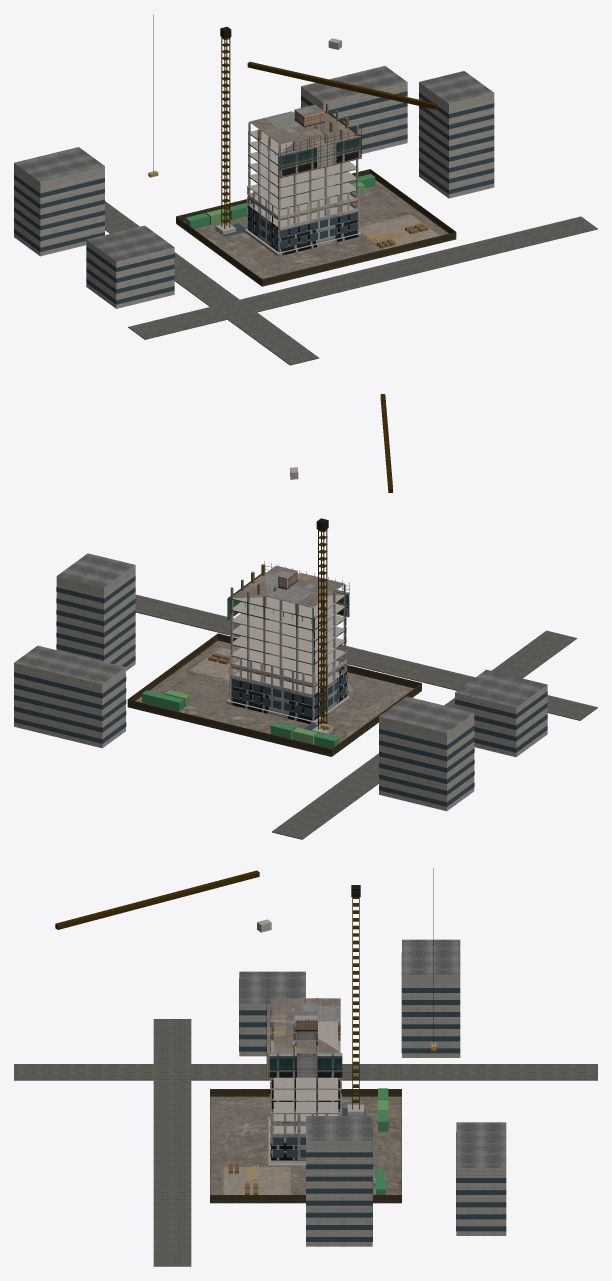
The model's file is tower-m6.glb.
The picture shows the model from 3 angles, top to bottom: view 1: azimuth 30°, elevation 25°; view 2: azimuth 150°, elevation 25°; view 3: azimuth 270°, elevation 25°; orthographic projection. The views are drawn at different scales.
Parts seen in each view (by area): view 1: Ground_NeighbourPBR, Ground_AsphaltPBR, Ground_GlassPBR, SitePad, Ground_FencePBR, Crane_CranePBR, F10_PlywoodPBR, Slab_8, Slab_4, Slab_3, Slab_5, F09_NetPBR (+13 smaller); view 2: Ground_NeighbourPBR, Ground_GlassPBR, Ground_AsphaltPBR, SitePad, Ground_FencePBR, Crane_CranePBR, F10_PlywoodPBR, Slab_8, Ground_ContainerPBR, Slab_4, Slab_5, Slab_7 (+10 smaller); view 3: Ground_NeighbourPBR, Ground_AsphaltPBR, SitePad, Ground_GlassPBR, Crane_CranePBR, Ground_FencePBR, Slab_8, F10_PlywoodPBR, GravelYard, F09_NetPBR, F08_NetPBR, Slab_4 (+4 smaller).
Part boxes in pixels (x1,y1,x2,y2): Ground_NeighbourPBR: (14, 66, 494, 308); Ground_AsphaltPBR: (105, 201, 597, 365); Ground_GlassPBR: (14, 91, 494, 304); SitePad: (177, 180, 455, 286); Ground_FencePBR: (176, 169, 456, 285); Crane_CranePBR: (221, 37, 437, 228); F10_PlywoodPBR: (249, 111, 361, 156); Slab_8: (248, 113, 358, 155); Slab_4: (248, 171, 358, 199); Slab_3: (248, 182, 357, 209); Slab_5: (248, 161, 358, 188); F09_NetPBR: (278, 112, 361, 166); Ground_NeighbourPBR: (14, 553, 547, 811); Ground_GlassPBR: (14, 576, 547, 806); Ground_AsphaltPBR: (135, 594, 597, 839); SitePad: (128, 640, 421, 756); Ground_FencePBR: (127, 633, 421, 756); Crane_CranePBR: (318, 394, 392, 730); F10_PlywoodPBR: (251, 564, 349, 614); Slab_8: (230, 575, 346, 619); Ground_ContainerPBR: (142, 690, 339, 748); Slab_4: (230, 636, 346, 664); Slab_5: (230, 624, 346, 653); Slab_7: (230, 602, 346, 630); Ground_NeighbourPBR: (239, 939, 506, 1246); Ground_AsphaltPBR: (14, 1019, 597, 1266); SitePad: (210, 1096, 401, 1203); Ground_GlassPBR: (239, 953, 506, 1241); Crane_CranePBR: (55, 870, 359, 1109); Ground_FencePBR: (210, 1089, 401, 1202); Slab_8: (271, 1022, 340, 1053); F10_PlywoodPBR: (267, 998, 340, 1052); GravelYard: (222, 1165, 272, 1194); F09_NetPBR: (268, 1053, 342, 1065); F08_NetPBR: (268, 1065, 342, 1077); Slab_4: (271, 1089, 340, 1101).
Size of what is drawn, in the model's own units: 140 by 61 by 140.
24 materials, 23 textured.
